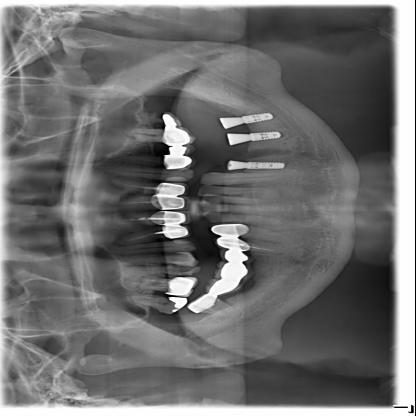ITI: (248, 158, 288, 174), (241, 108, 278, 124), (250, 130, 284, 144)
